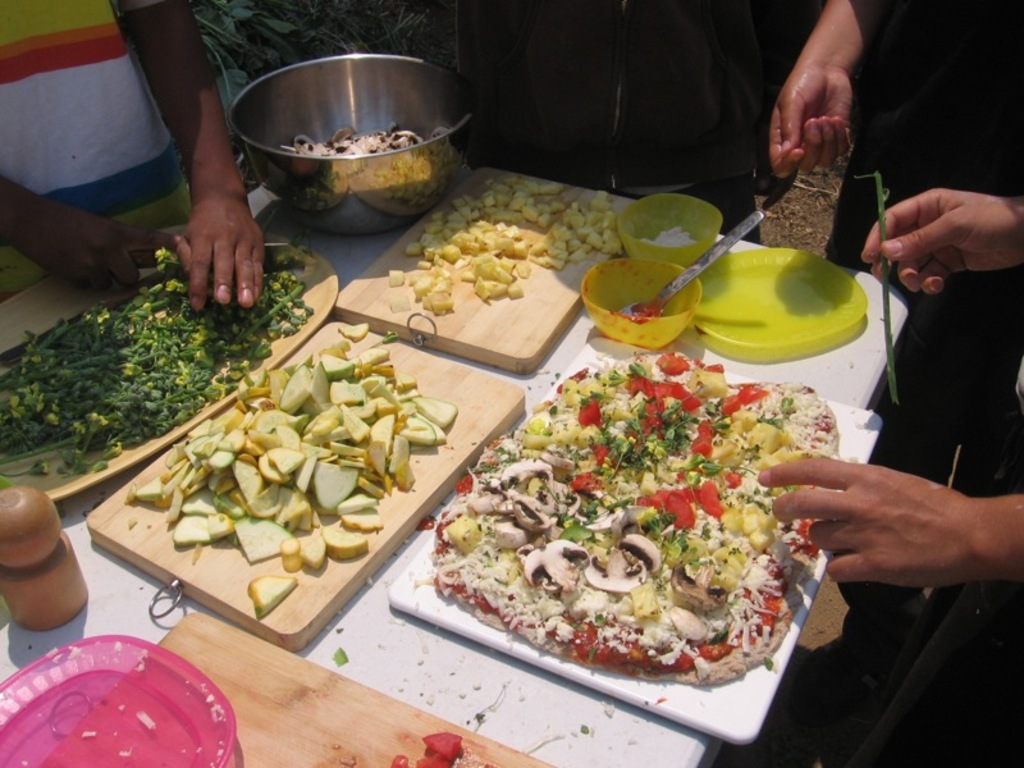Pizza: (426, 380, 810, 688)
